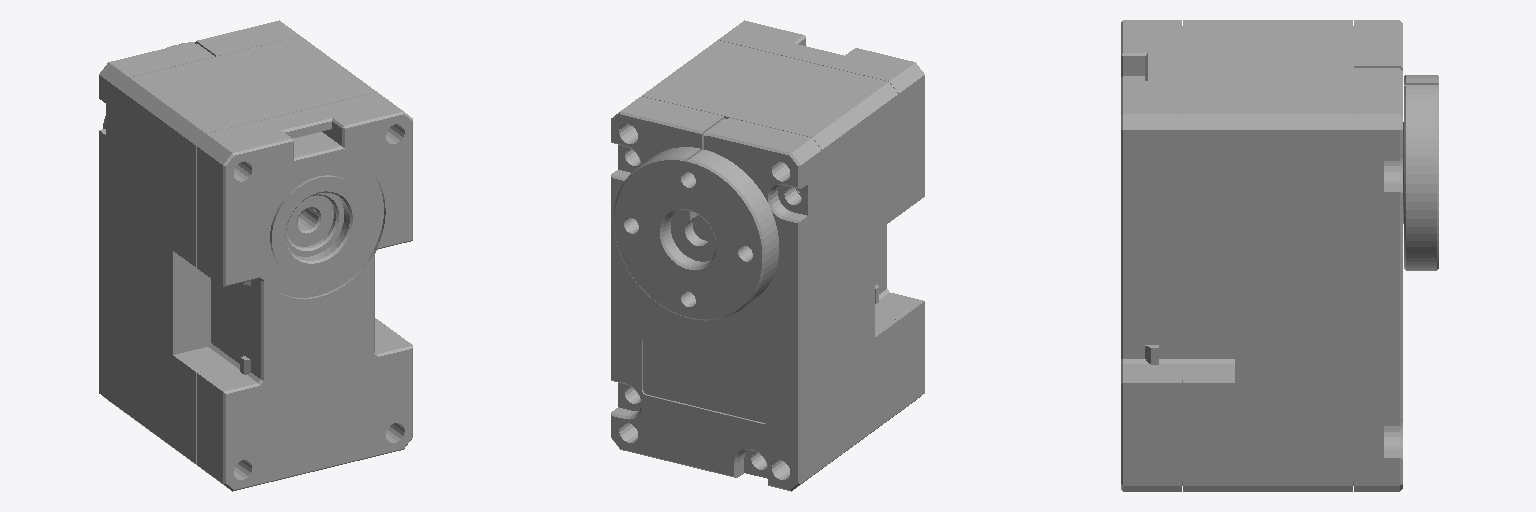
URDF robot description (dynamixel):
<?xml version="1.0" ?>
<!-- =================================================================================== -->
<!-- |    This document was autogenerated by xacro from [local-path]/projects/moveit_HWI/src/dynamixel_description/urdf/dynamixel.xacro | -->
<!-- |    EDITING THIS FILE BY HAND IS NOT RECOMMENDED                                 | -->
<!-- =================================================================================== -->
<robot name="dynamixel">
    <material name="silver">
        <color rgba="0.700 0.700 0.700 1.000" />
    </material>
    <transmission name="Revolute 1_tran">
        <type>transmission_interface/SimpleTransmission</type>
        <joint name="Revolute 1">
            <hardwareInterface>hardware_interface/EffortJointInterface</hardwareInterface>
        </joint>
        <actuator name="Revolute 1_actr">
            <hardwareInterface>hardware_interface/EffortJointInterface</hardwareInterface>
            <mechanicalReduction>1</mechanicalReduction>
        </actuator>
    </transmission>
    <gazebo>
        <plugin filename="libgazebo_ros_control.so" name="control" />
        <plugin name="gazebo_ros_control">
            <robotNamespace>/</robotNamespace>
        </plugin>
    </gazebo>
    <gazebo reference="base_link">
        <material>Gazebo/Silver</material>
        <mu1>0.2</mu1>
        <mu2>0.2</mu2>
        <selfCollide>true</selfCollide>
        <gravity>true</gravity>
    </gazebo>
    <gazebo reference="shaft_1">
        <material>Gazebo/Silver</material>
        <mu1>0.2</mu1>
        <mu2>0.2</mu2>
        <selfCollide>true</selfCollide>
    </gazebo>
    <link name="base_link">
        <inertial>
            <origin rpy="0 0 0" xyz="-1.3696546658476628e-05 -0.011227940210464343 -0.007509758370360145" />
            <mass value="0.11123576534541824" />
            <inertia ixx="1.6e-05" ixy="0.0" ixz="-0.0" iyy="1.4e-05" iyz="-0.0" izz="8e-06" />
        </inertial>
        <visual>
            <origin rpy="0 0 0" xyz="0 0 0" />
            <geometry>
                <mesh filename="package://dynamixel_description/meshes/base_link.stl" scale="0.001 0.001 0.001" />
            </geometry>
            <material name="silver" />
        </visual>
        <collision>
            <origin rpy="0 0 0" xyz="0 0 0" />
            <geometry>
                <mesh filename="package://dynamixel_description/meshes/base_link.stl" scale="0.001 0.001 0.001" />
            </geometry>
        </collision>
    </link>
    <link name="shaft_1">
        <inertial>
            <origin rpy="0 0 0" xyz="-6.524556626078737e-14 0.0014988491033203202 -3.996224044255299e-06" />
            <mass value="0.004031659689068819" />
            <inertia ixx="0.0" ixy="0.0" ixz="0.0" iyy="0.0" iyz="-0.0" izz="0.0" />
        </inertial>
        <visual>
            <origin rpy="0 0 0" xyz="-0.0 0.0001 -0.0" />
            <geometry>
                <mesh filename="package://dynamixel_description/meshes/shaft_1.stl" scale="0.001 0.001 0.001" />
            </geometry>
            <material name="silver" />
        </visual>
        <collision>
            <origin rpy="0 0 0" xyz="-0.0 0.0001 -0.0" />
            <geometry>
                <mesh filename="package://dynamixel_description/meshes/shaft_1.stl" scale="0.001 0.001 0.001" />
            </geometry>
        </collision>
    </link>
    <joint name="Revolute 1" type="continuous">
        <origin rpy="0 0 0" xyz="0.0 -0.0001 0.0" />
        <parent link="base_link" />
        <child link="shaft_1" />
        <axis xyz="0.0 1.0 0.0" />
    </joint>
</robot>

--- Render facts (derived) ---
Views: 3 orthographic renders of the robot side by side, from view 1: azimuth 30°, elevation 25°; view 2: azimuth 150°, elevation 25°; view 3: azimuth 270°, elevation 25°.
Model dynamixel with 2 links and 1 joints (1 continuous), rooted at base_link, posed all joints at 0.
Links seen in each view (by area): view 1: base_link; view 2: base_link, shaft_1; view 3: base_link, shaft_1.
Boxes of the visible links, x1,y1,x2,y2 form: base_link: (99,20,412,491); base_link: (611,20,924,491); shaft_1: (613,147,778,320); base_link: (1121,20,1402,491); shaft_1: (1403,75,1438,270).
Size in the robot's own frame: 0.02 by 0.026 by 0.034 metres.
2 mesh visuals loaded from 2 distinct referenced files (2 binary STL).